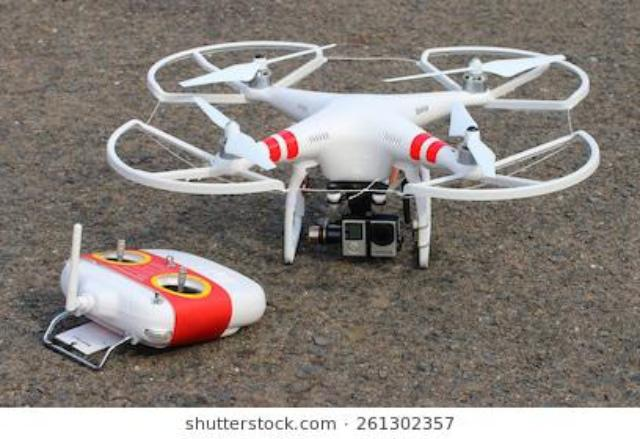drone: (84, 19, 640, 285)
